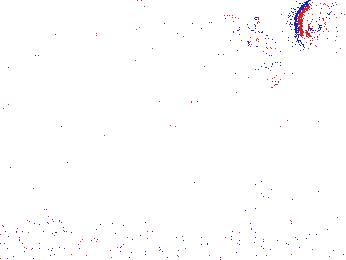moon jellyfish: (108, 80, 194, 134), (218, 29, 287, 94), (135, 1, 194, 64), (294, 1, 346, 59), (48, 1, 139, 28)
